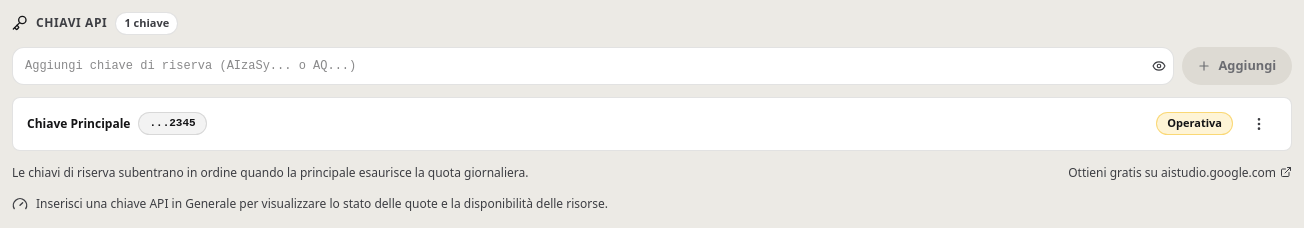
Test: ApiKeySection component › adds a valid fallback key when clicking Aggiungi button
Later steps or results of the test are not shown.
Expected: the button with aria-label "Aggiungi chiave di riserva" is disabled, top-left (1182, 46), bottom-right (1292, 84)
In the password field named "Nuova chiave di riserva": coordinates (593, 66) top-left (12, 46), bottom-right (1174, 84), type "AIzaSyValidKey9999999999999999"
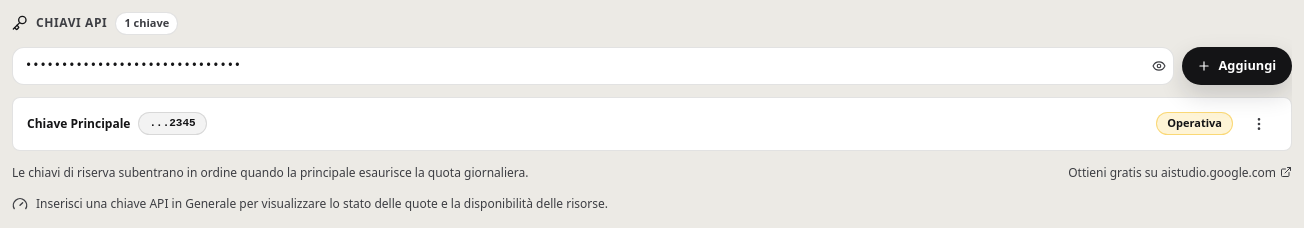
Now the button with aria-label "Aggiungi chiave di riserva" is enabled, box top-left (1182, 46), bottom-right (1292, 84)
